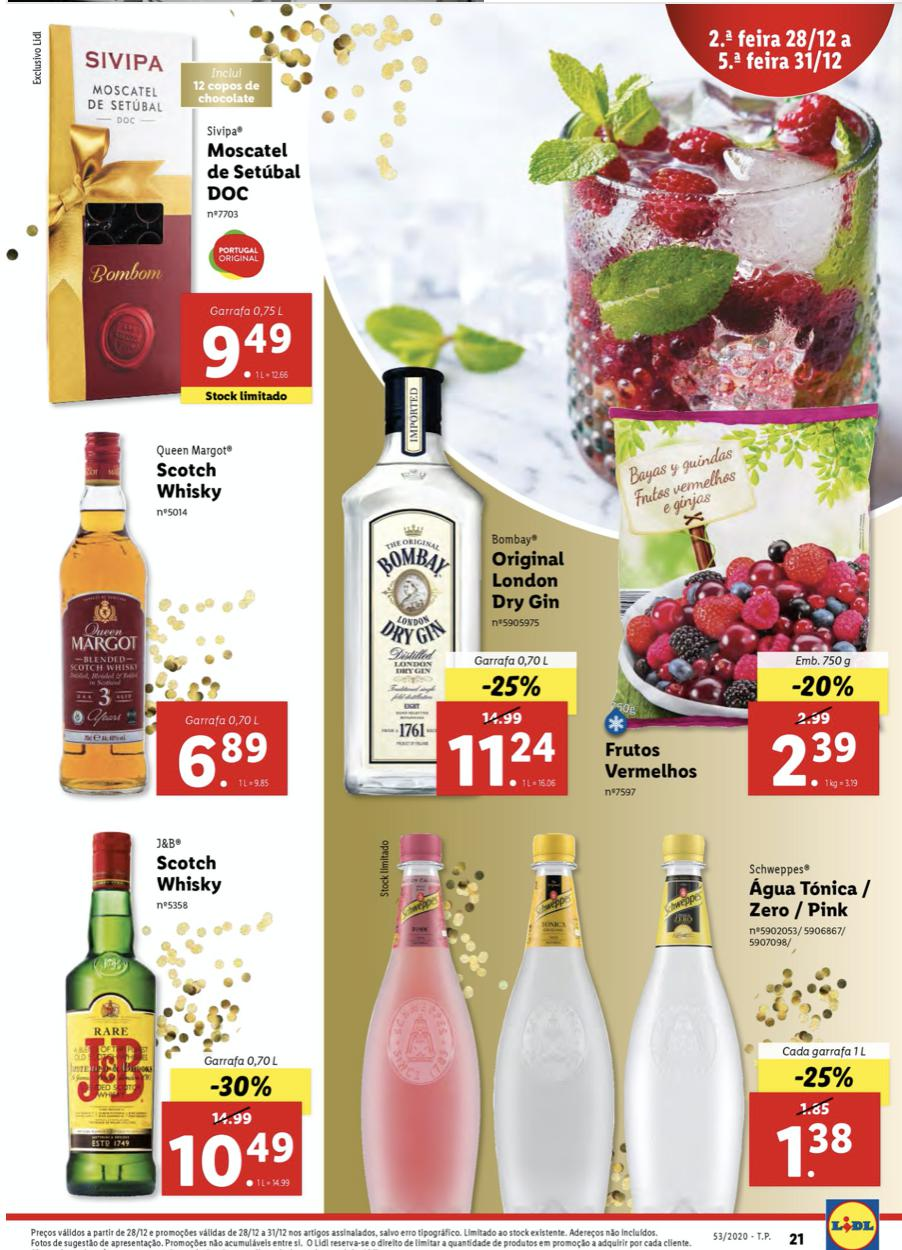name: (199, 138, 305, 206), (748, 875, 880, 920), (488, 544, 572, 612), (597, 738, 702, 786), (146, 850, 225, 903), (151, 458, 228, 507)
price: (168, 1126, 297, 1190), (443, 726, 560, 790), (765, 1120, 866, 1186), (199, 318, 297, 384), (179, 727, 275, 793), (771, 732, 859, 789)
product: (340, 821, 895, 1216), (592, 401, 889, 804), (20, 18, 319, 416), (340, 358, 585, 818), (26, 430, 302, 807), (59, 807, 310, 1207)
promotion: (475, 666, 548, 703), (785, 672, 860, 703), (206, 1070, 275, 1100), (792, 1061, 857, 1090)
